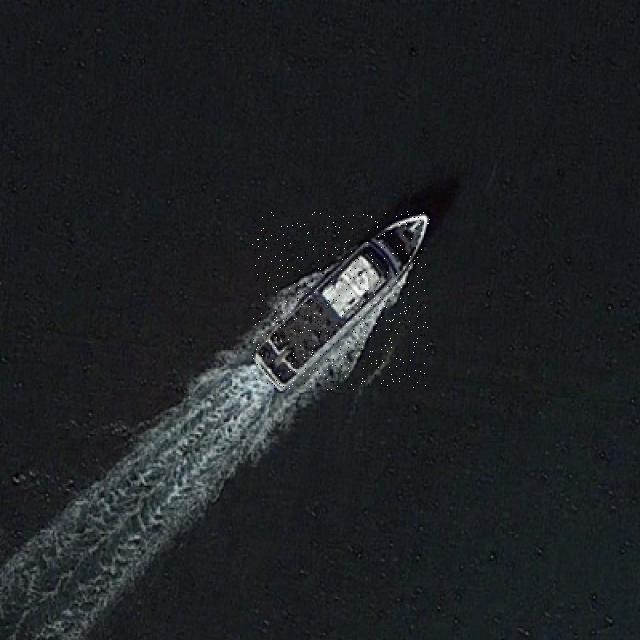boat: (252, 211, 430, 390)
